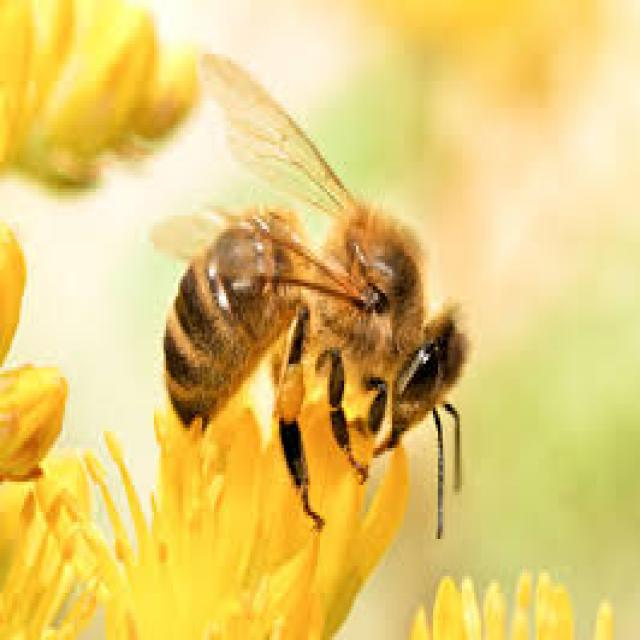Bees: (160, 50, 469, 541)
